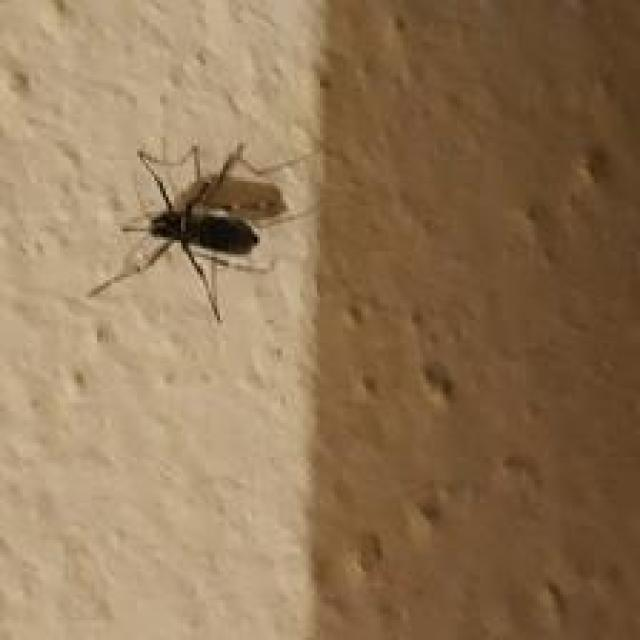Aedes albopictus: (86, 139, 317, 324)
